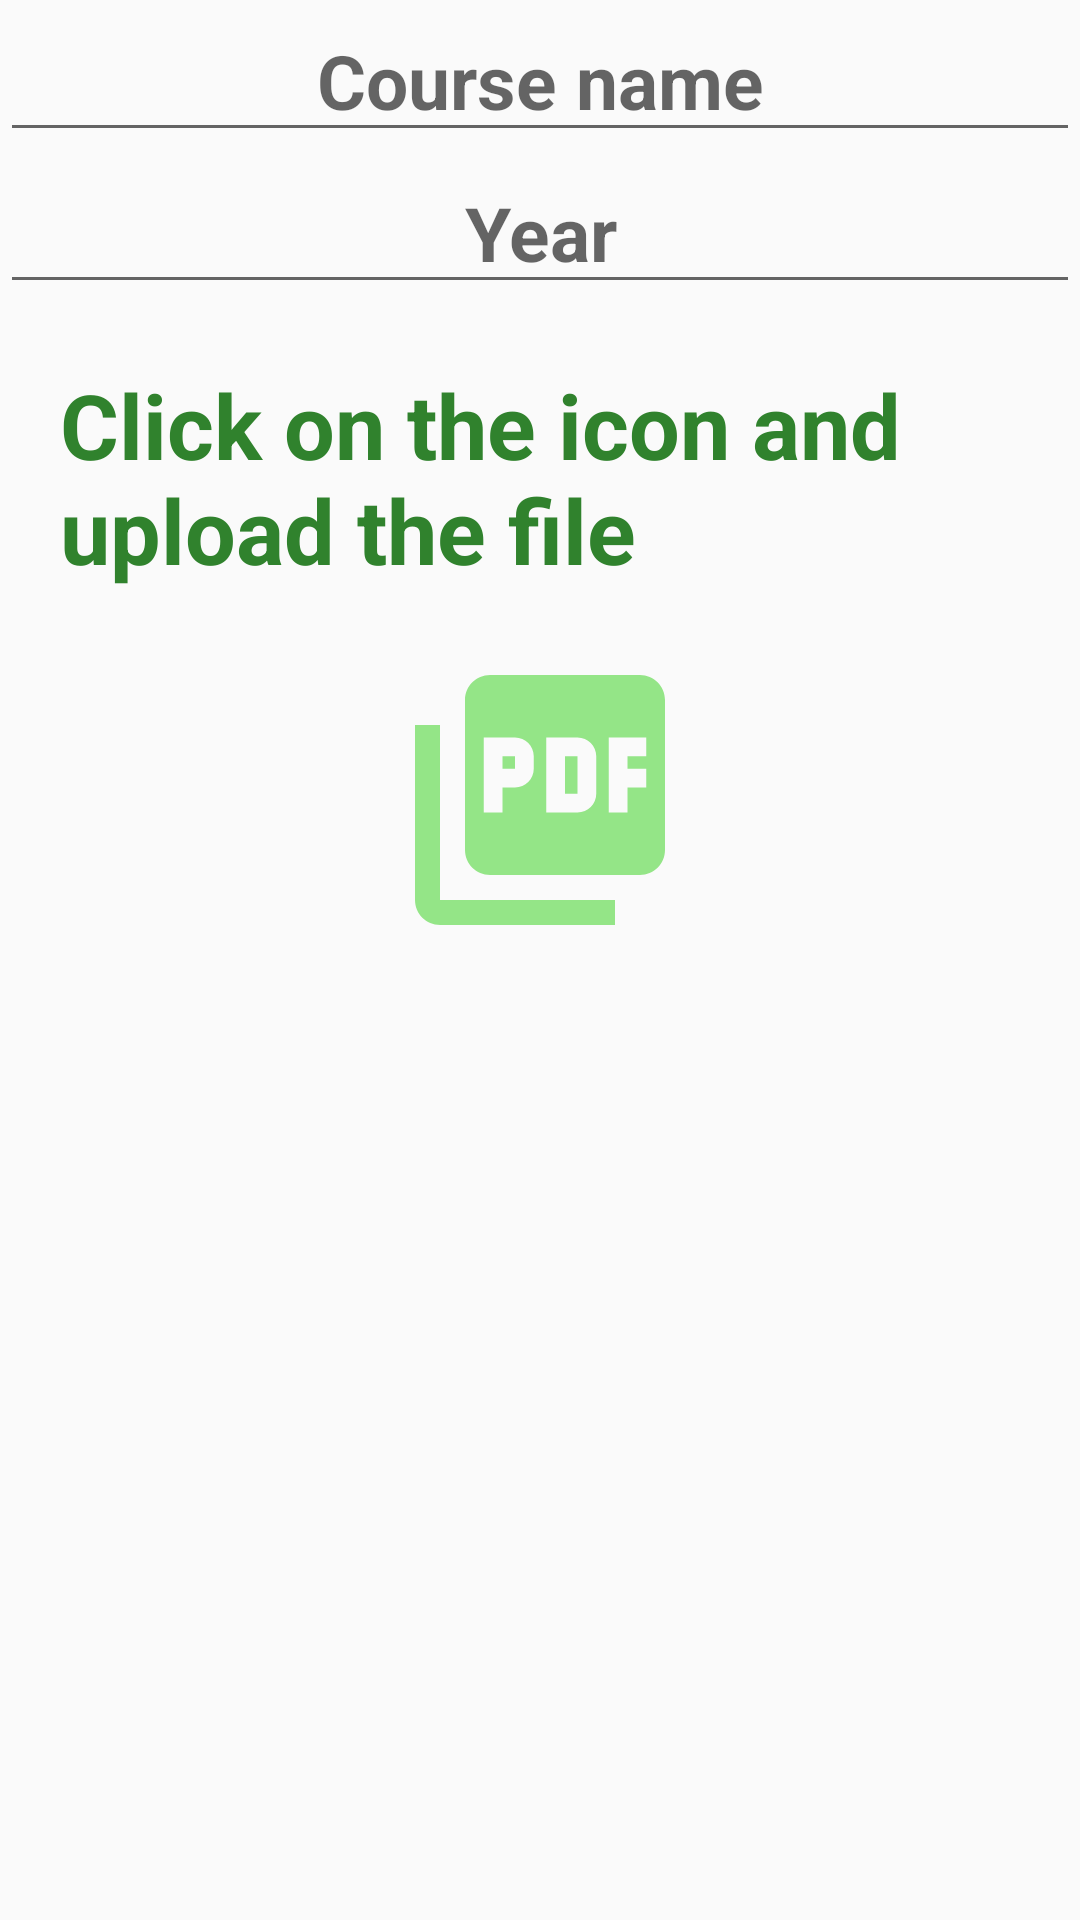

Screen size 1080×1920. Icon name, then its center in pixels as (x=x, y=y):
questionpdf: (x=540, y=800)
